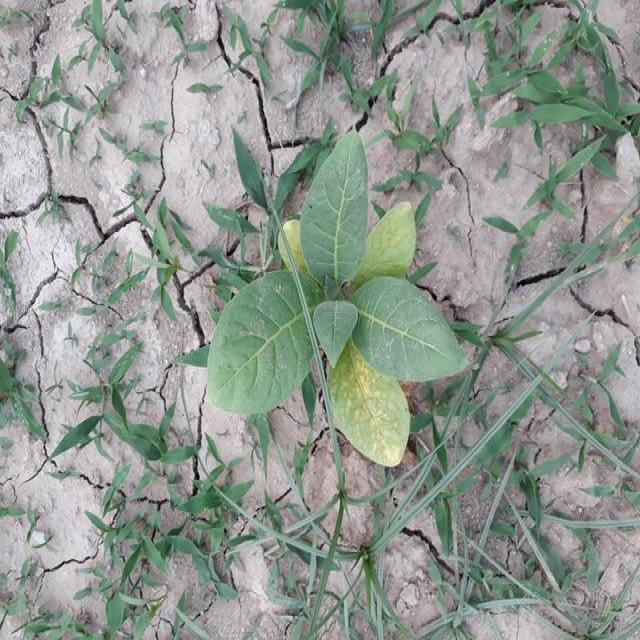crop: (198, 120, 478, 475)
